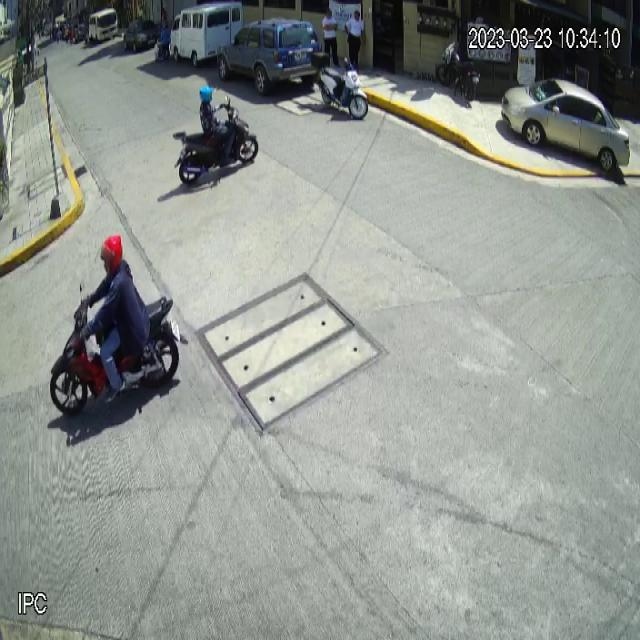Car: (501, 77, 632, 172), (216, 18, 322, 96)
Motorcycle: (49, 278, 189, 416), (172, 97, 259, 185), (311, 51, 370, 120)
Van: (170, 1, 244, 70)
